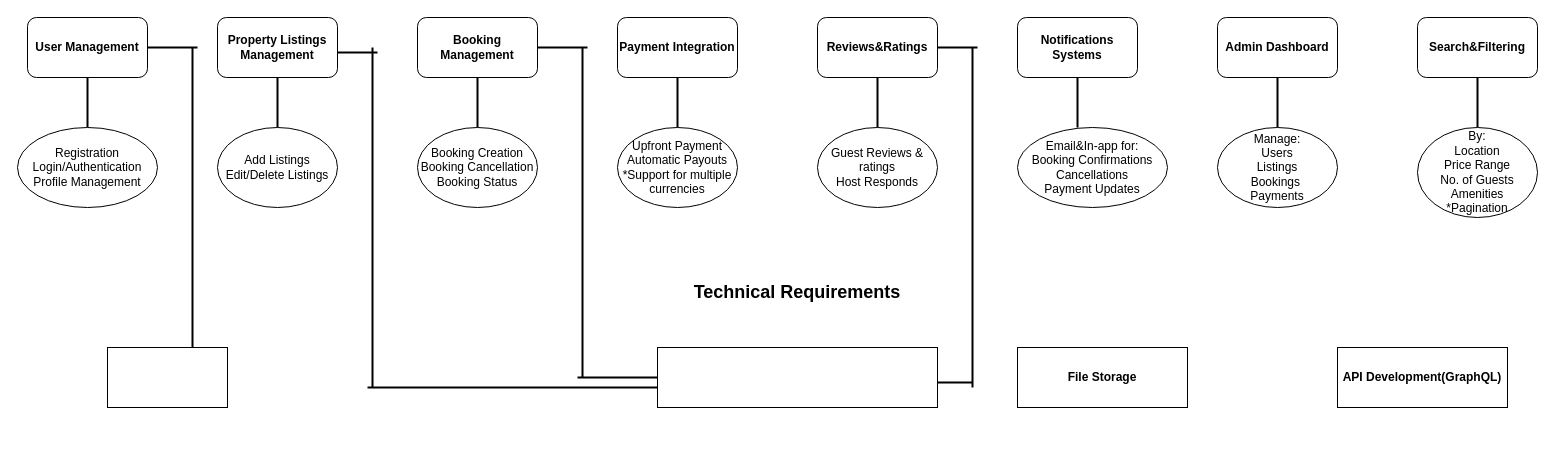
The diagram is 1555 pixels wide and 466 high, and some of its shapes have lost their labels. Here are the shapes that lost their labels. From the top down, the centre of each, then its label:
At pixel 167 377: "Authentication".
At pixel 797 377: "Database Management(PostgreSQL or MySQL".
